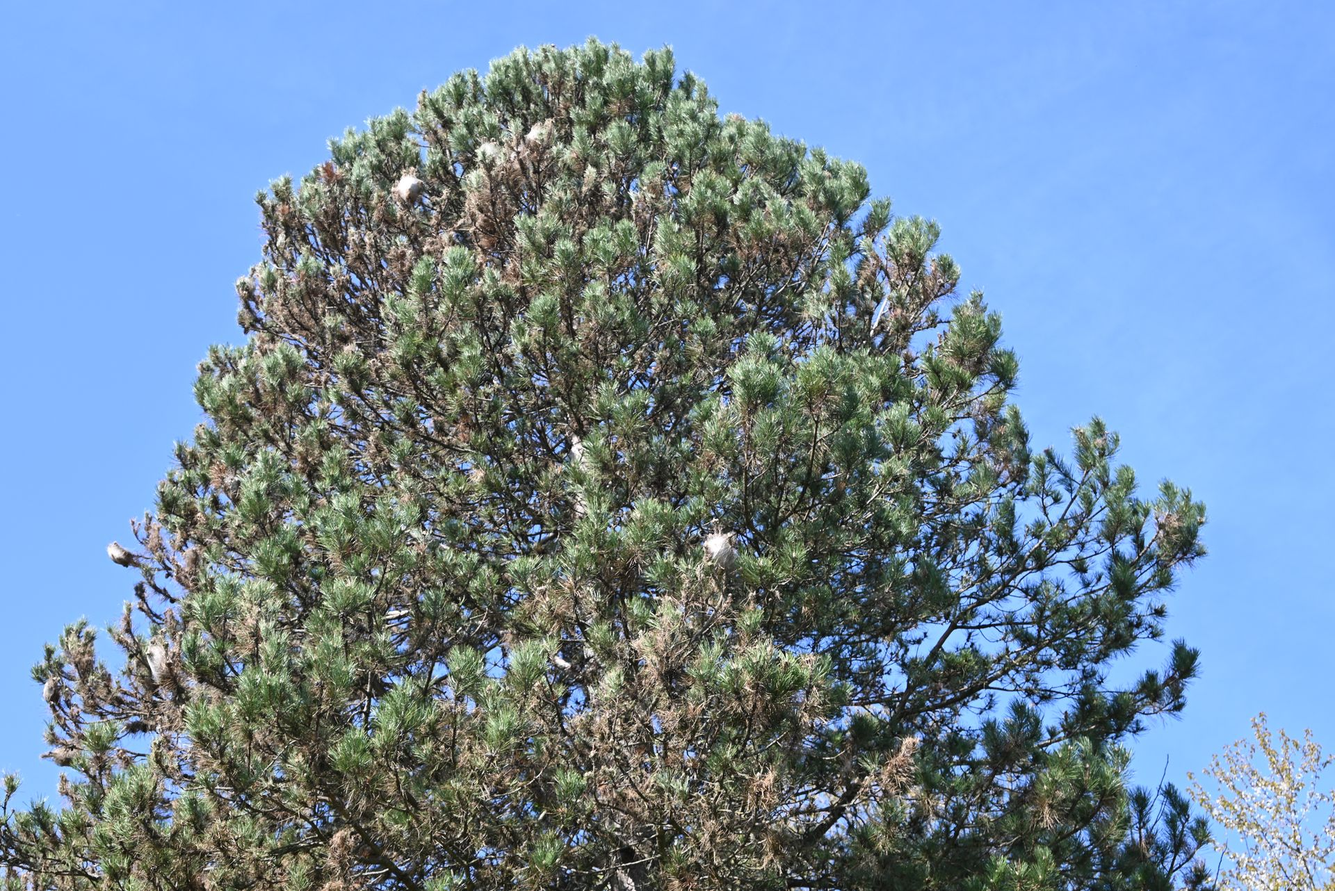thaumatopoea pityocampa jajno gnijezdo: (137, 638, 199, 703), (693, 525, 743, 575), (522, 120, 556, 153), (471, 143, 512, 170), (104, 540, 136, 570), (397, 174, 428, 204), (46, 745, 73, 766), (40, 680, 60, 705)
